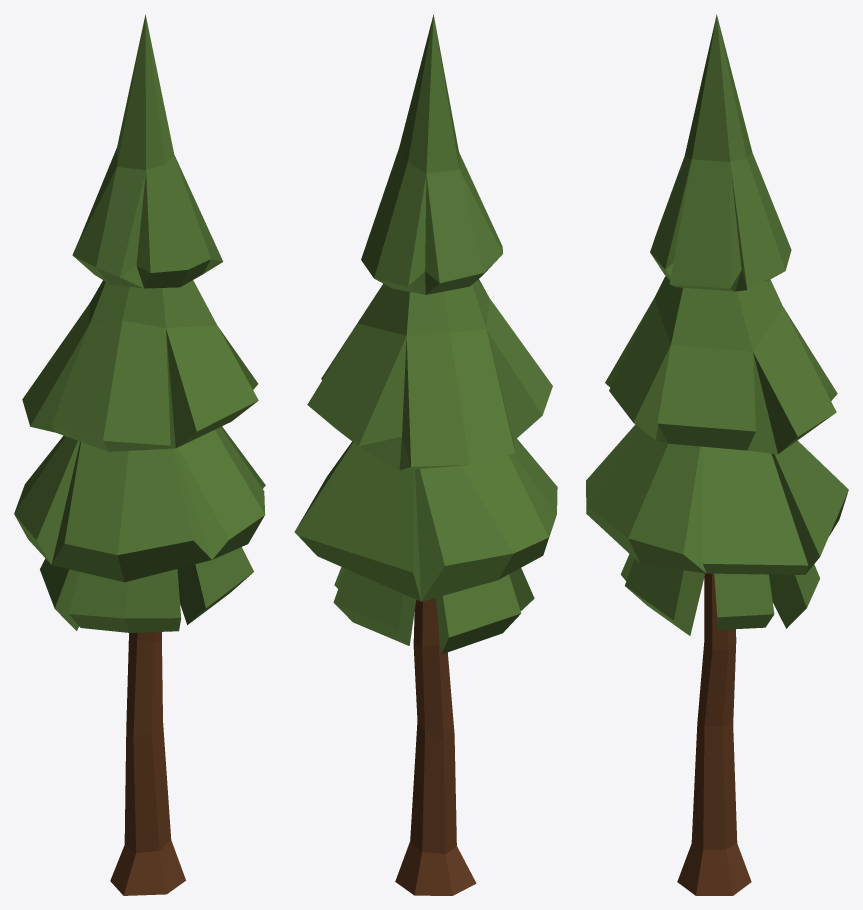
Rendered from Tree1.74b49395.glb.
3 views of the same model, side by side, from view 1: azimuth 30°, elevation 25°; view 2: azimuth 150°, elevation 25°; view 3: azimuth 270°, elevation 25° (orthographic).
Parts seen in each view (by area): view 1: tree-forest; view 2: tree-forest; view 3: tree-forest.
Boxes of the visible parts, left/top/right/bottom form: tree-forest: left=14, top=14, right=265, bottom=895; tree-forest: left=294, top=14, right=557, bottom=895; tree-forest: left=586, top=14, right=848, bottom=895.
Size of the model in its own units: 19.27 by 70.82 by 19.45.
Materials: 1 (1 with a texture image).
